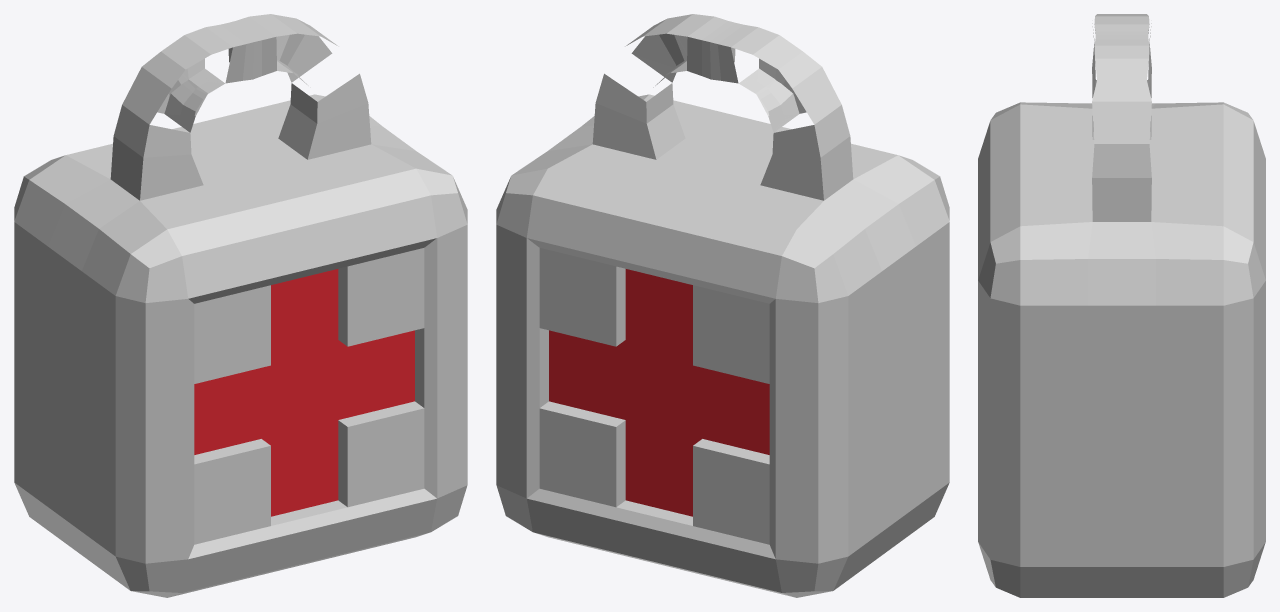
The model's file is Health.glb.
3 renders of one model, left to right at view 1: azimuth 30°, elevation 25°; view 2: azimuth 150°, elevation 25°; view 3: azimuth 270°, elevation 25°, orthographic.
Visible parts, largest first — view 1: Health1; view 2: Health1; view 3: Health1.
Part boxes in pixels (x1,y1,x2,y2): Health1: [14, 14, 467, 597]; Health1: [496, 14, 949, 597]; Health1: [978, 14, 1265, 597].
Size of the model in its own units: 0.2672 by 0.3614 by 0.1885.
